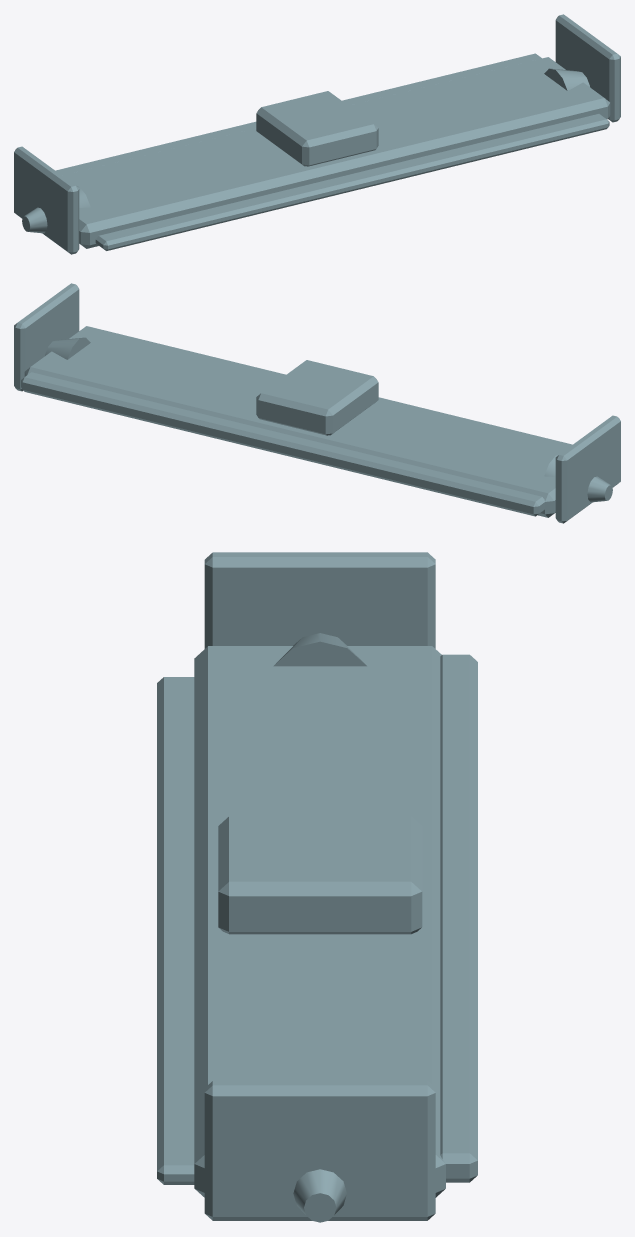
The model's file is hf_foil.glb.
3 views of the same model, one above another, from view 1: azimuth 30°, elevation 25°; view 2: azimuth 150°, elevation 25°; view 3: azimuth 270°, elevation 25° (orthographic). The views are drawn at different scales.
Parts seen in each view (by area): view 1: hf_foil; view 2: hf_foil; view 3: hf_foil.
Boxes of the visible parts, <box> form: hf_foil: <box>14,14,620,254</box>; hf_foil: <box>14,283,620,523</box>; hf_foil: <box>157,552,477,1222</box>.
Bounding box in the file's own units: 0.99 × 0.125 × 0.236.
